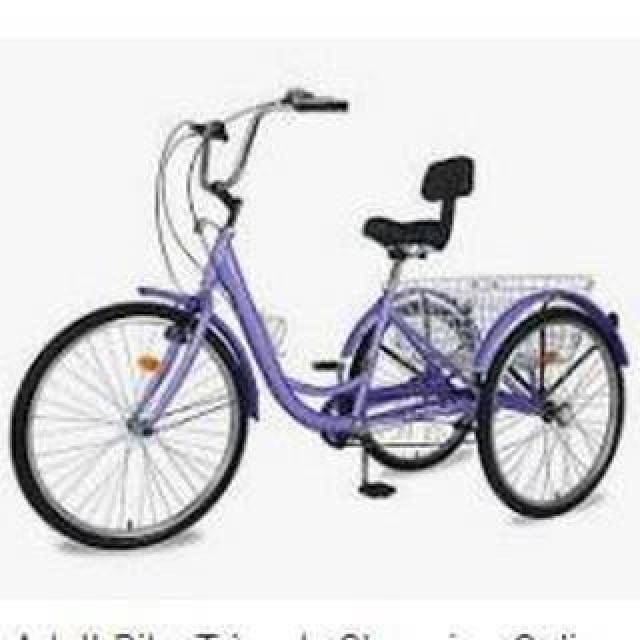Person: (9, 87, 637, 549)
